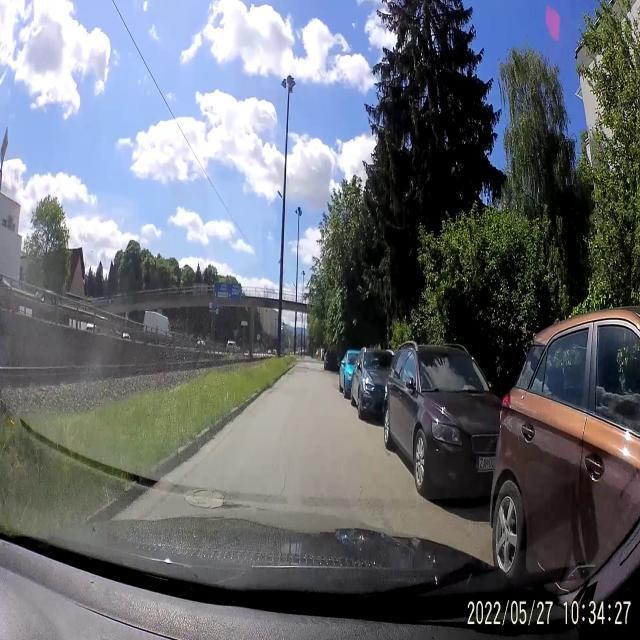Manhole: (184, 484, 223, 508)
Pothole: (222, 498, 252, 514)
